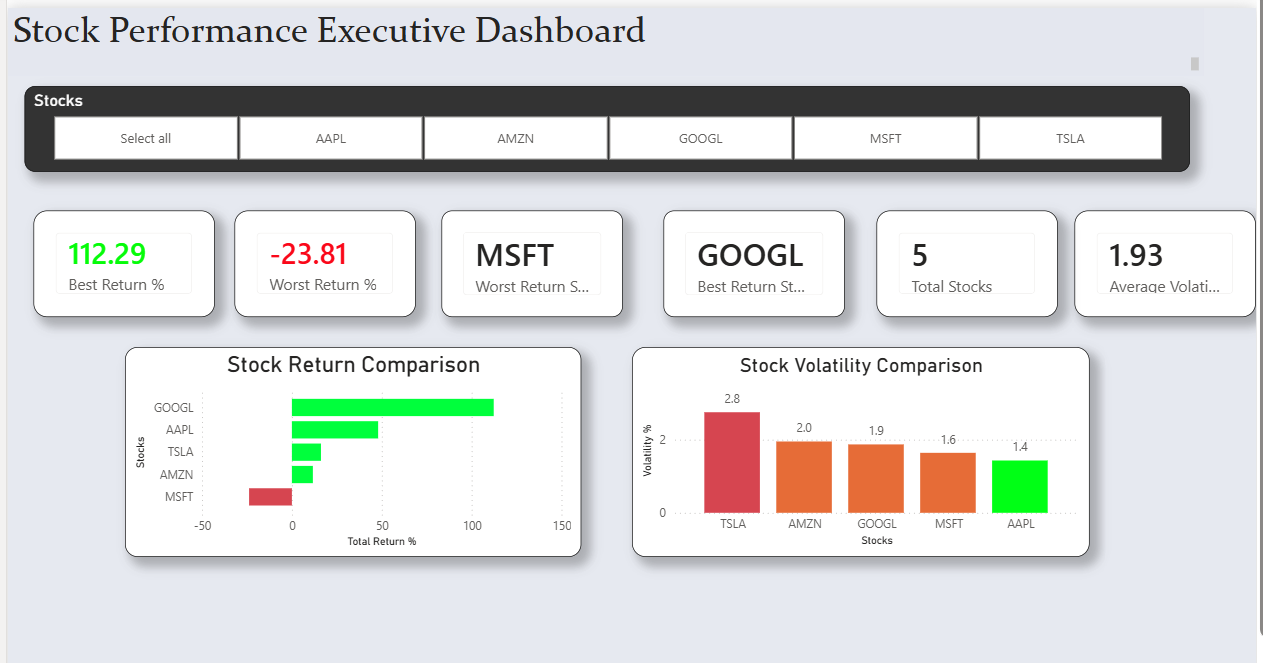

This screenshot's page, from the dashboard's own definition file:
{"tool":"powerbi","page":{"name":"Stock Performance Executive Dashboard","canvas":[1280,720],"ordinal":0},"visuals":[{"type":"cardVisual","fields":{"Data":["stock_summary_report.Best Return %"]},"box":[26.2,207.7,186.2,109.2],"z":0},{"type":"cardVisual","fields":{"Data":["stock_summary_report.Average Volatility %"]},"box":[1093.8,207.7,186.2,109.2],"z":2000},{"type":"cardVisual","fields":{"Data":["Count(powerbi_stock_dataset.Ticker)"]},"box":[890.8,207.7,186.2,109.2],"z":3000},{"type":"clusteredBarChart","title":"Stock Return Comparison","fields":{"Category":["stock_summary_report.Ticker"],"Y":["Max(stock_summary_report.Total Return %)"]},"box":[120,347.7,467.7,215.4],"z":4000},{"type":"clusteredColumnChart","title":"Stock Volatility Comparison","fields":{"Category":["stock_summary_report.Ticker"],"Y":["Max(stock_summary_report.Volatility %)"]},"box":[640,347.7,469.2,215.4],"z":5000},{"type":"slicer","title":"Stocks","fields":{"Values":["stock_summary_report.Ticker"]},"box":[16.9,80,1195.4,87.7],"z":6005},{"type":"textbox","title":"Stock Performance Executive Dashboard","box":[0,0,1226.2,69.2],"z":6006},{"type":"cardVisual","fields":{"Data":["stock_summary_report.Worst Return %"]},"box":[232.3,207.7,186,109.2],"z":6007},{"type":"cardVisual","fields":{"Data":["stock_summary_report.Worst Return Ticker"]},"box":[444.6,207.7,186.2,109.2],"z":6008},{"type":"cardVisual","fields":{"Data":["stock_summary_report.Best Return Ticker"]},"box":[672.3,207.7,186.2,109.2],"z":6009}]}

Visuals, with their boxes on the page's 1280x720 design canvas (x1, y1, x2, y2). These are canvas units, not pixel positions in the 1263x663 screenshot, which may show the page scaled, cropped or inside an application window:
cardVisual - stock_summary_report.Best Return %: 26 208 212 317
cardVisual - stock_summary_report.Average Volatility %: 1094 208 1280 317
cardVisual - Count(powerbi_stock_dataset.Ticker): 891 208 1077 317
"Stock Return Comparison" clusteredBarChart: 120 348 588 563
"Stock Volatility Comparison" clusteredColumnChart: 640 348 1109 563
"Stocks" slicer: 17 80 1212 168
"Stock Performance Executive Dashboard" textbox: 0 0 1226 69
cardVisual - stock_summary_report.Worst Return %: 232 208 418 317
cardVisual - stock_summary_report.Worst Return Ticker: 445 208 631 317
cardVisual - stock_summary_report.Best Return Ticker: 672 208 858 317
